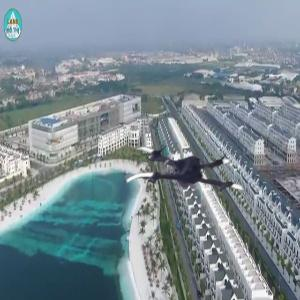drone: (125, 125, 243, 243)
